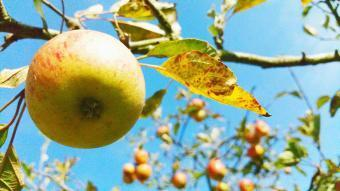apple: (25, 32, 147, 150)
